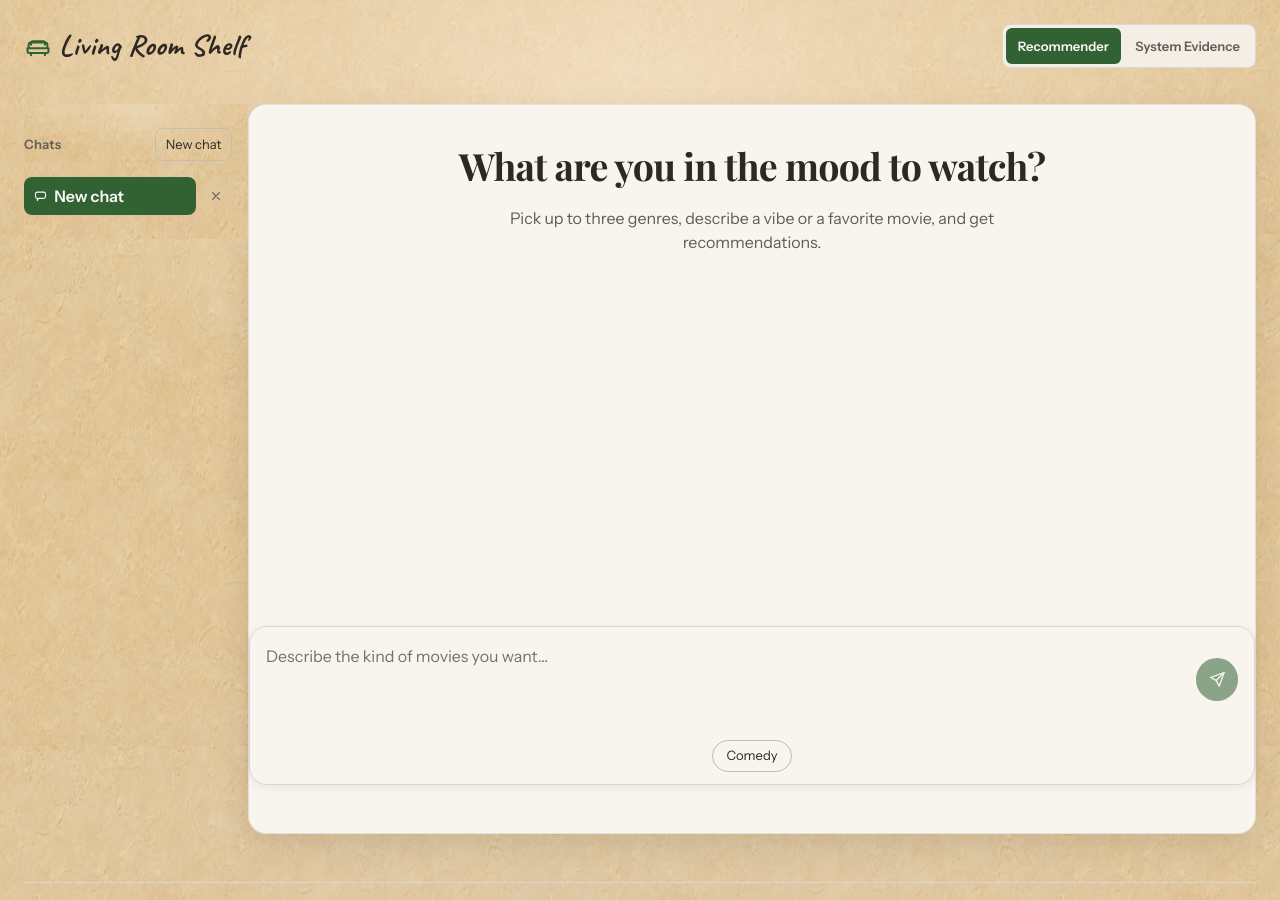
Test case: App conversational RAG chat › clicking hero card sends append seed chat turn
Click the button "Comedy" at (752, 756), box [712,740,792,772]
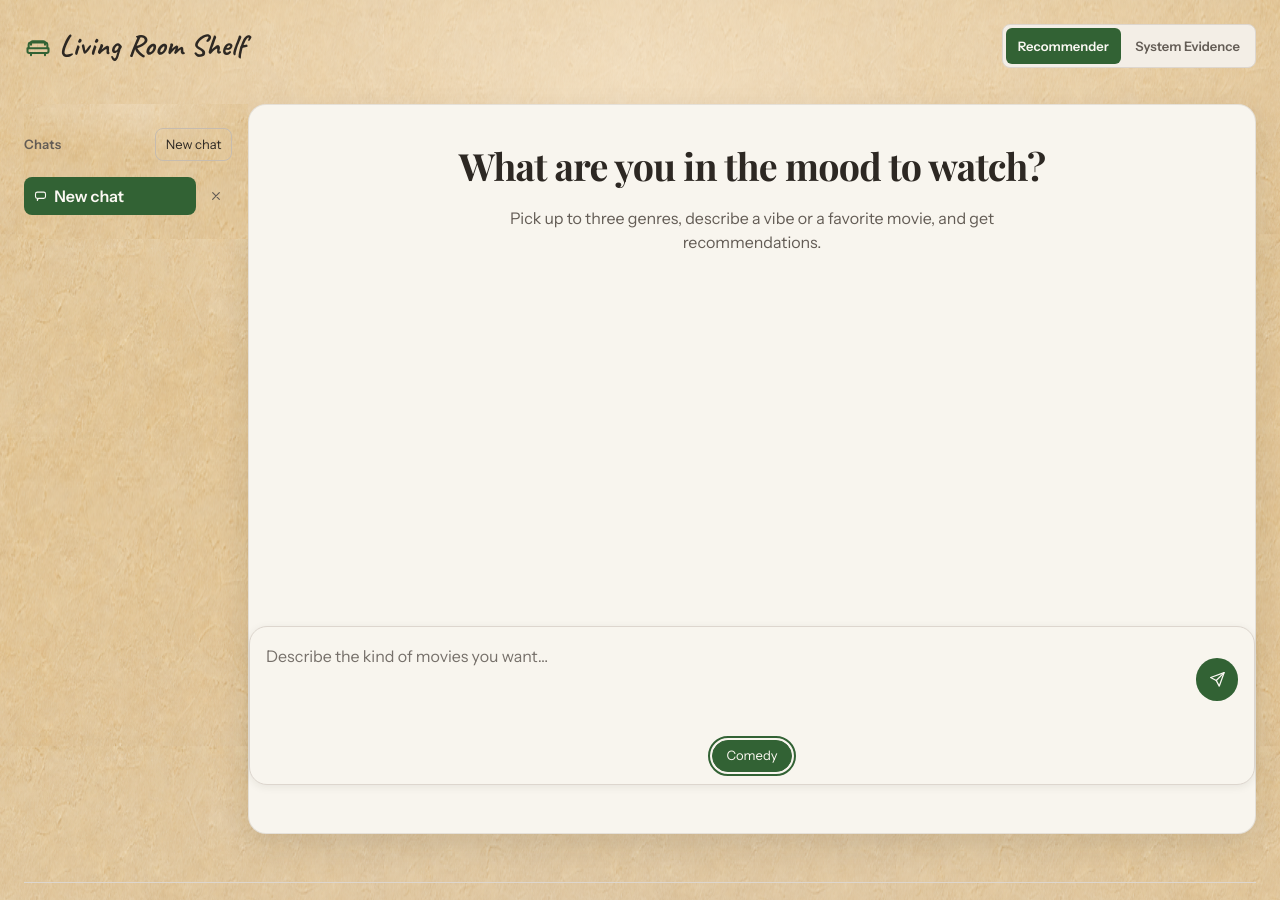
Type "first" into the text box with placeholder "Describe the kind of movies you want…" at (728, 679), box [266,639,1190,720]
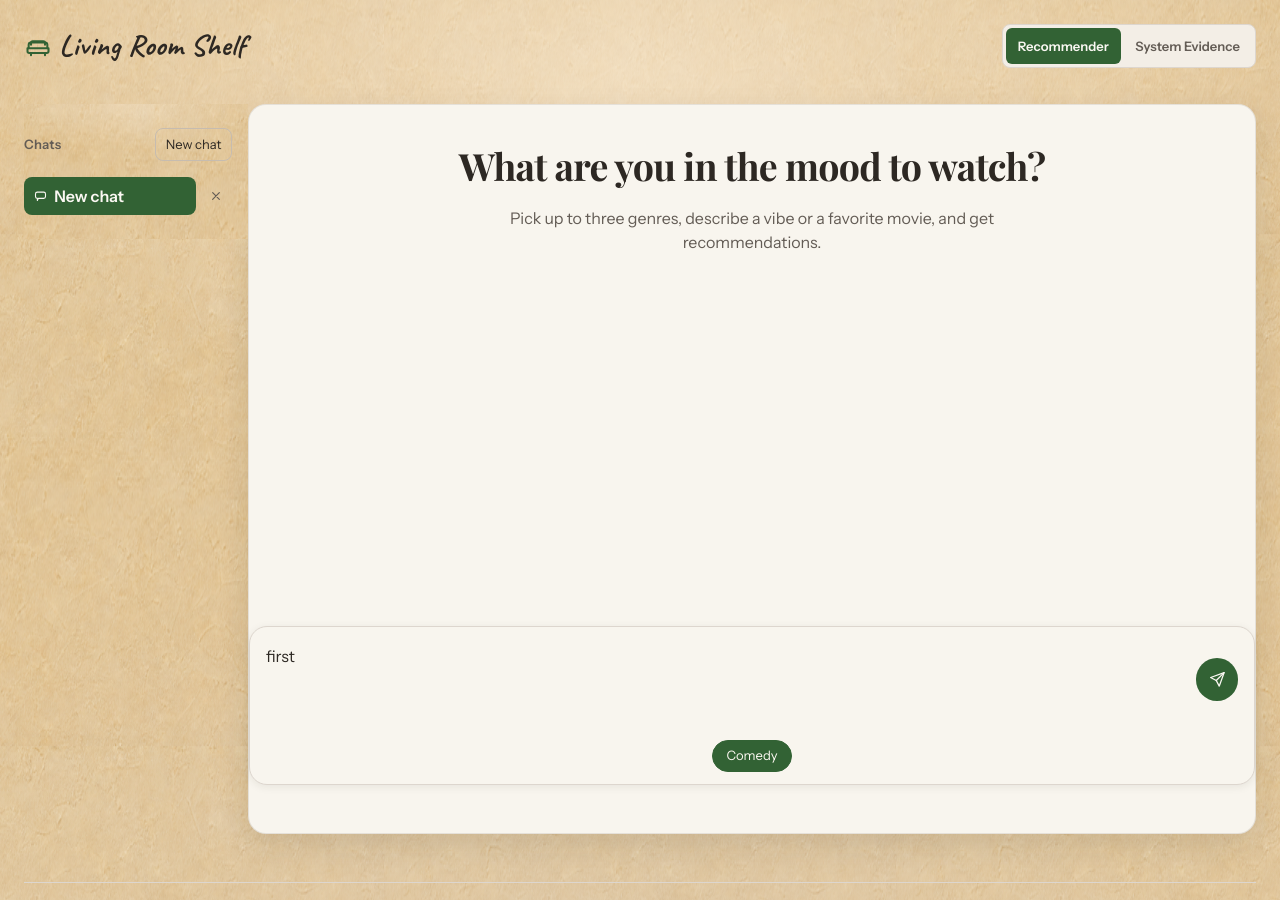
Click the button named "Send" at (1217, 679), box [1196,658,1238,700]
(page scrolled)
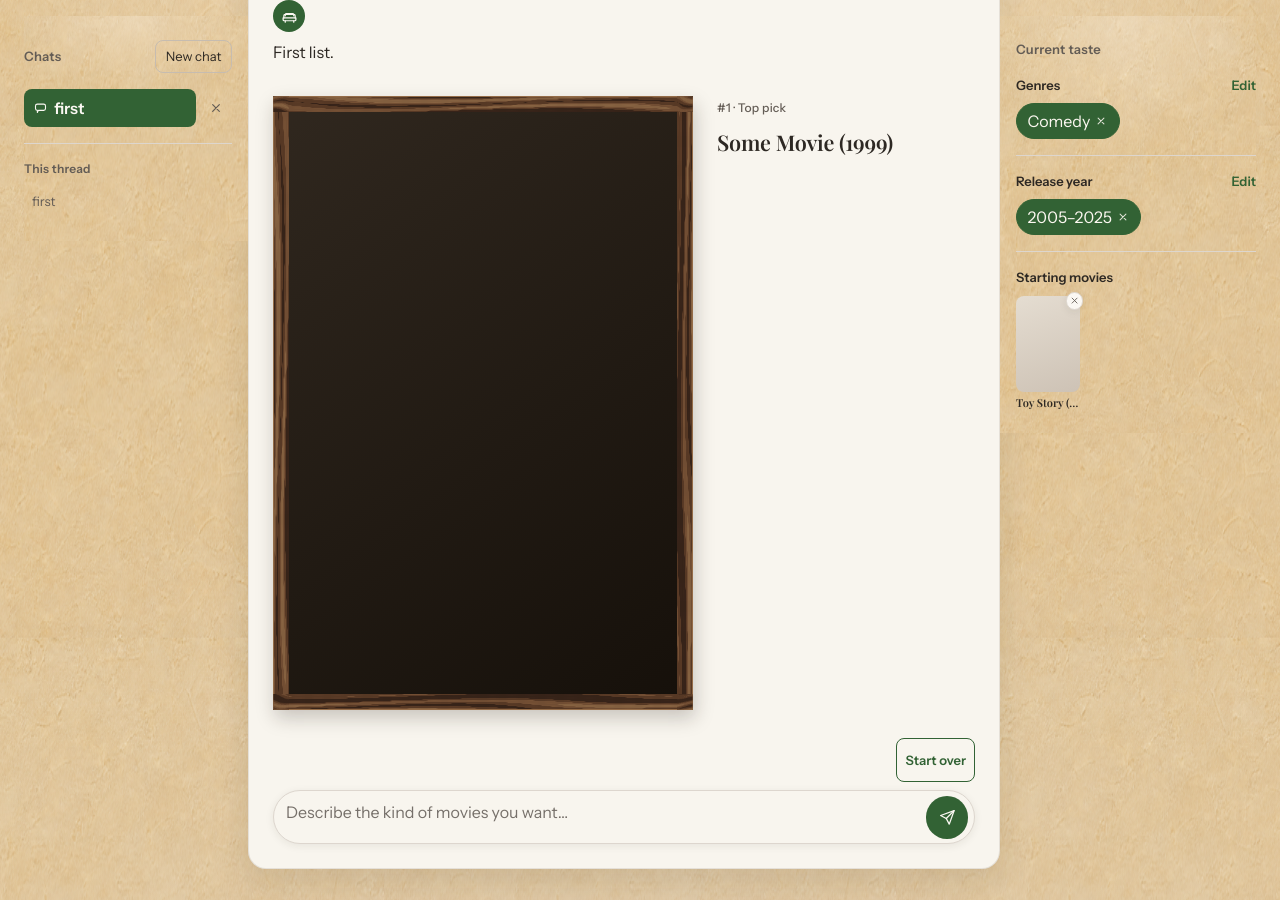
Click the button named "Add Some Movie (1999) to starting movies" at (483, 403), box [273,96,693,710]
(page scrolled)
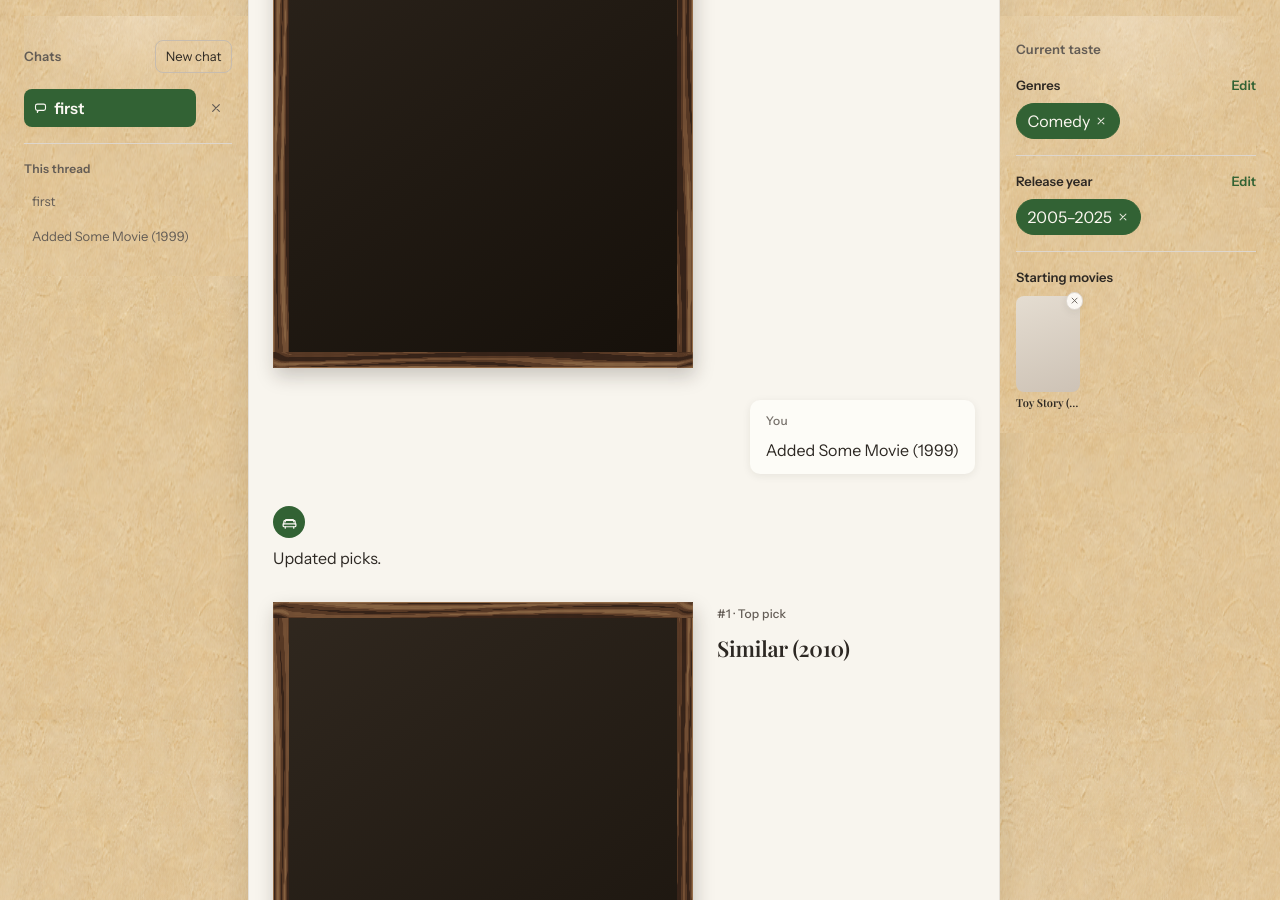
Check: the text "Updated picks." is shown, box [273,548,381,568]
Check: the text "Added Some Movie (1999)" is shown, box [766,438,959,462]
